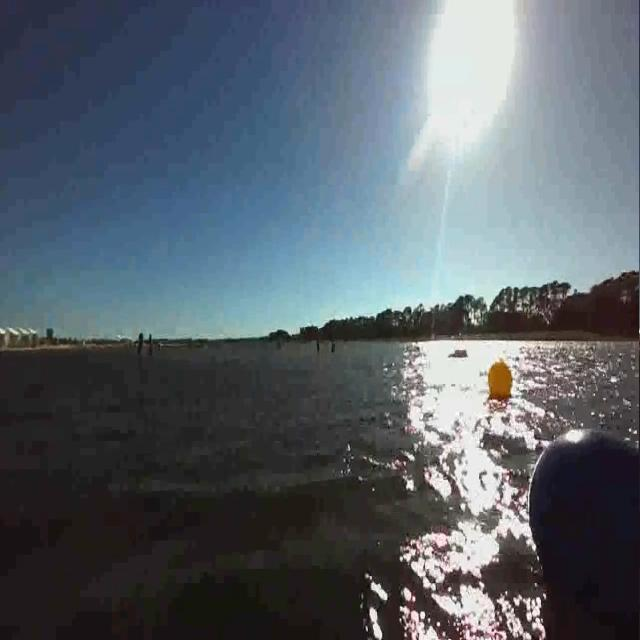black-buoy: (530, 426, 640, 640)
green-column-buoy: (137, 330, 145, 363)
red-column-buoy: (148, 332, 155, 361)
yellow-buoy: (487, 360, 513, 400)
